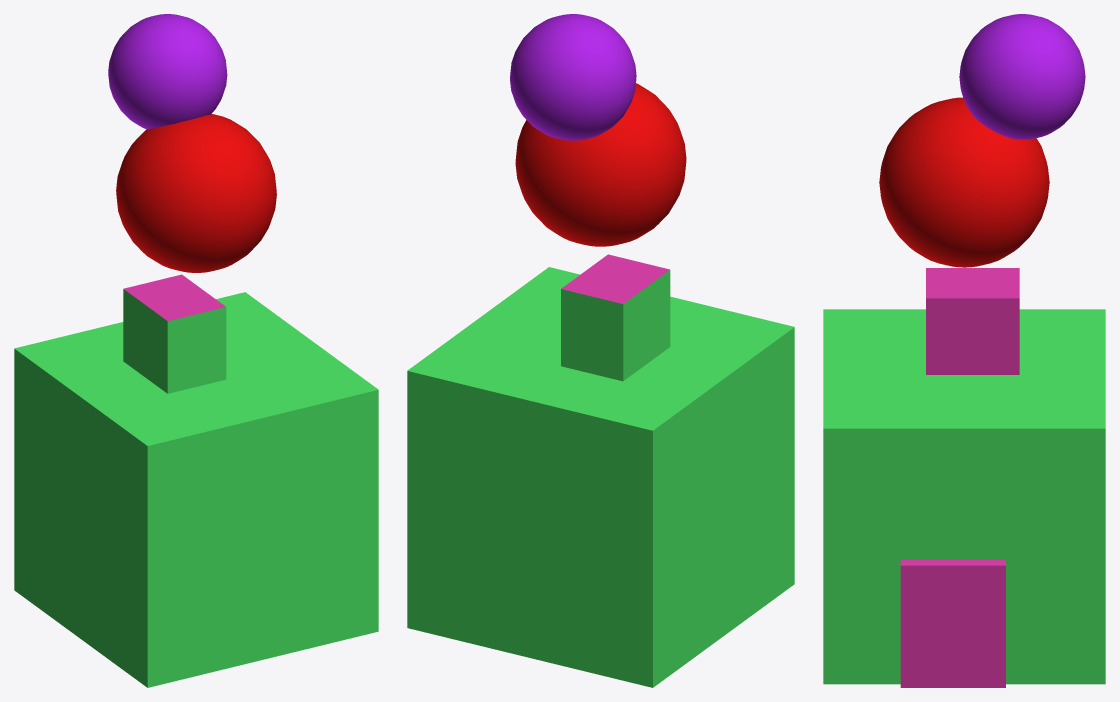
The picture shows the model from 3 angles, left to right: view 1: azimuth 30°, elevation 25°; view 2: azimuth 150°, elevation 25°; view 3: azimuth 270°, elevation 25°; orthographic projection. The views are drawn at different scales.
Visible parts, largest first — view 1: Cube, Sphere, Sphere.001; view 2: Cube, Sphere, Sphere.001; view 3: Cube, Sphere, Sphere.001.
Part boxes in pixels (bbox=[...]): Cube: bbox=[14, 274, 378, 687]; Sphere: bbox=[116, 113, 276, 272]; Sphere.001: bbox=[108, 14, 227, 129]; Cube: bbox=[407, 254, 794, 687]; Sphere: bbox=[515, 83, 686, 246]; Sphere.001: bbox=[510, 14, 636, 140]; Cube: bbox=[823, 268, 1105, 687]; Sphere: bbox=[879, 97, 1049, 267]; Sphere.001: bbox=[959, 14, 1085, 139].
Bounding box in the file's own units: 2.1 × 4.73 × 2.
